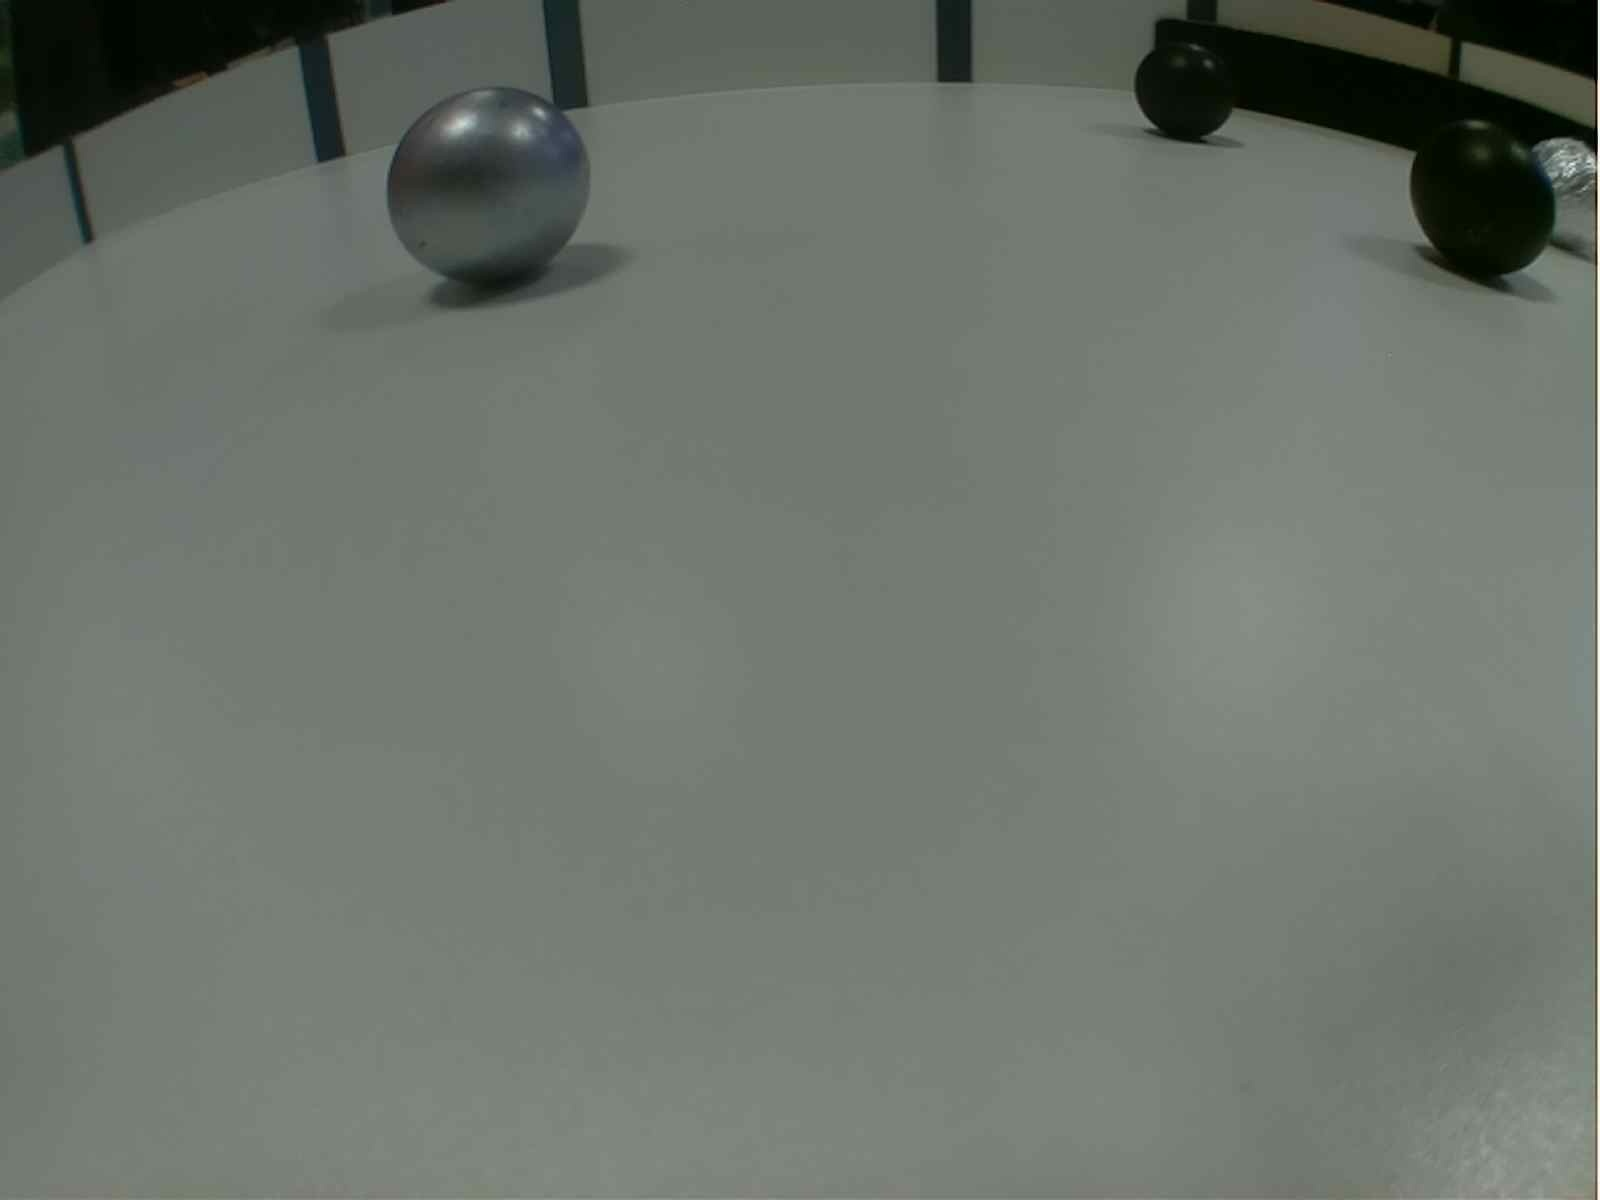bianca: (383, 86, 590, 292), (1534, 129, 1600, 258)
nera: (1409, 125, 1560, 277), (1133, 34, 1238, 140)
